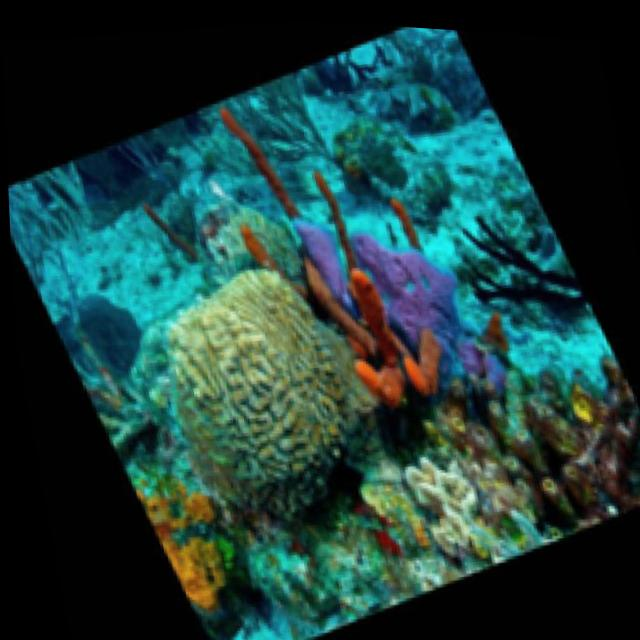Healthy Coral: (205, 82, 548, 464), (100, 202, 412, 591)
